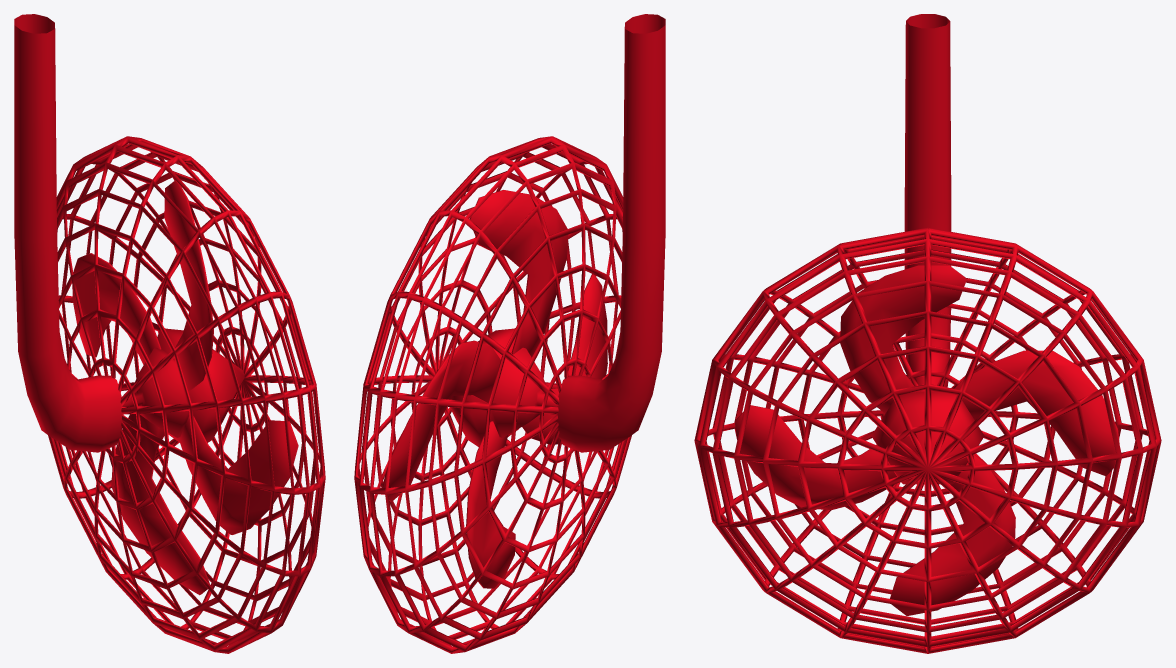
Rendered from Ventilador.fbx.
3 renders of one model, left to right at view 1: azimuth 30°, elevation 25°; view 2: azimuth 150°, elevation 25°; view 3: azimuth 270°, elevation 25°, orthographic. The views are drawn at different scales.
Parts seen in each view (by area): view 1: ventilkador, ventilkador.001; view 2: ventilkador, ventilkador.001; view 3: ventilkador, ventilkador.001.
Boxes of the visible parts, x1,y1,x2,y2 form: ventilkador: (14, 14, 325, 653); ventilkador.001: (72, 180, 298, 595); ventilkador: (354, 14, 665, 653); ventilkador.001: (382, 190, 607, 588); ventilkador: (694, 14, 1161, 653); ventilkador.001: (734, 265, 1119, 615).
Bounding box in the file's own units: 564 × 1541 × 1145.
